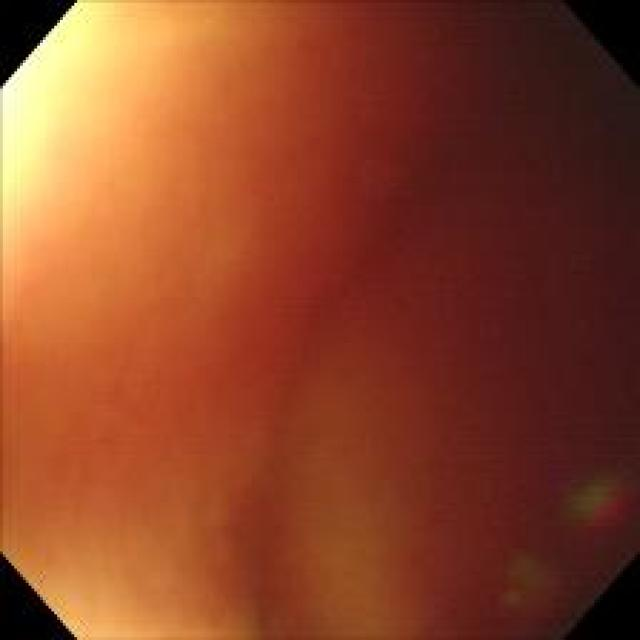color misalignment: (14, 10, 621, 626), (504, 556, 568, 615), (575, 472, 622, 530)
